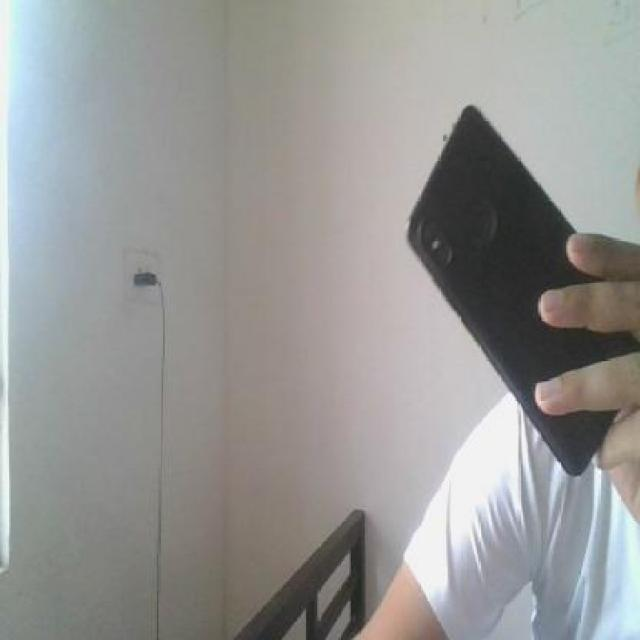Phone: (398, 100, 640, 483)
